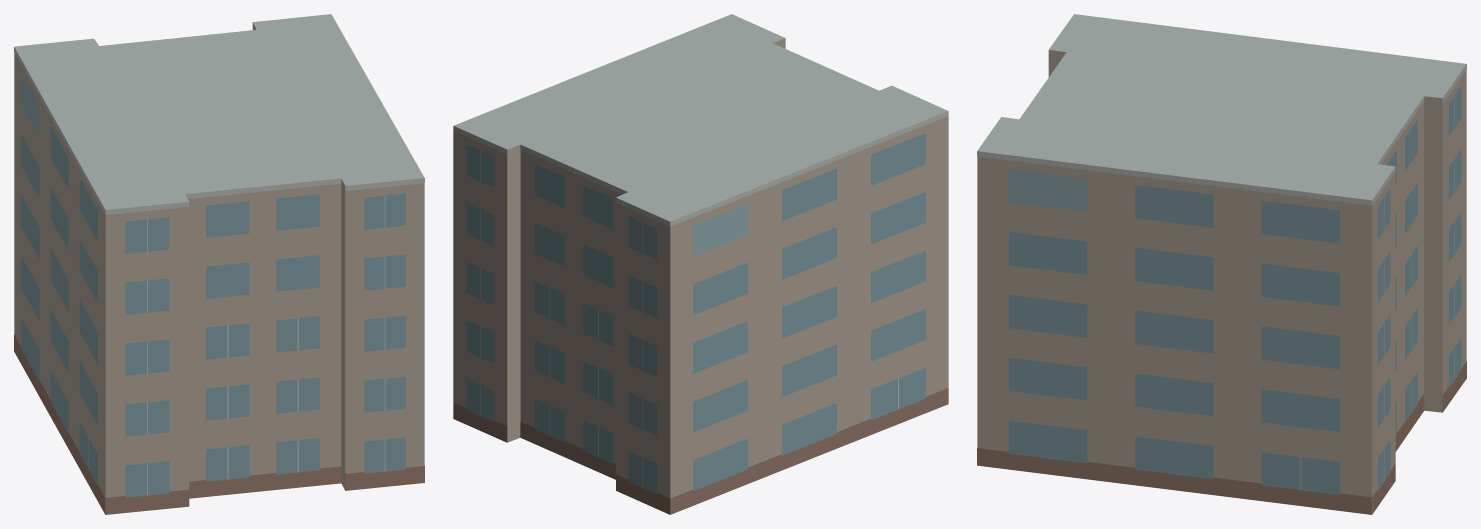
File: survey-upis-32948633.glb
3 views of the same model, side by side, from view 1: azimuth 30°, elevation 25°; view 2: azimuth 150°, elevation 25°; view 3: azimuth 270°, elevation 25° (orthographic). The views are drawn at different scales.
Parts seen in each view (by area): view 1: survey-upis-32948633.tmp; view 2: survey-upis-32948633.tmp; view 3: survey-upis-32948633.tmp.
Part boxes in pixels (bbox=[...]): survey-upis-32948633.tmp: bbox=[14, 14, 424, 514]; survey-upis-32948633.tmp: bbox=[453, 14, 948, 514]; survey-upis-32948633.tmp: bbox=[977, 14, 1466, 514].
Bounding box in the file's own units: 18.51 × 14.55 × 20.54.
